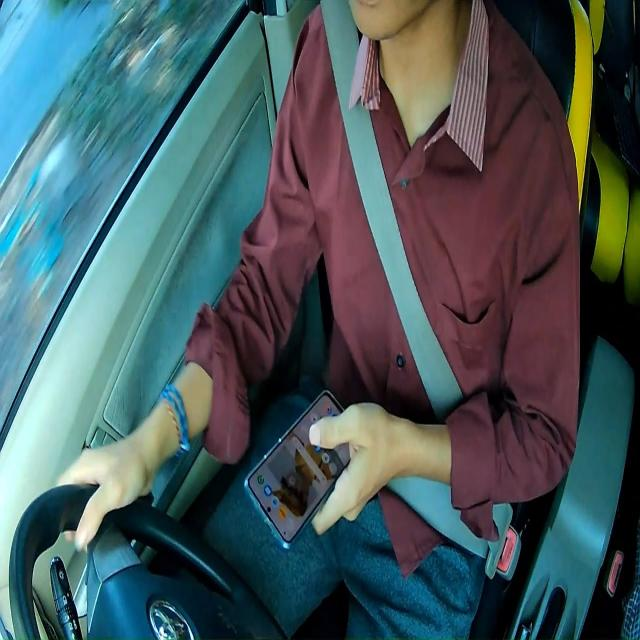phone: (245, 388, 353, 548)
